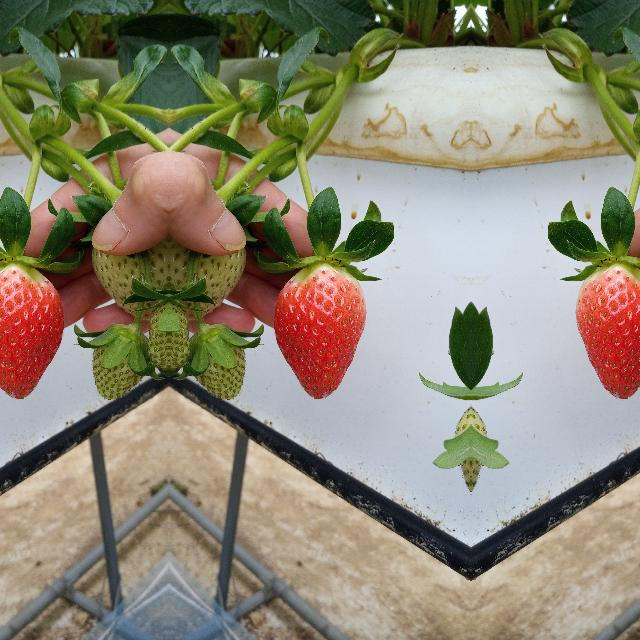Health_100: (272, 262, 366, 400), (575, 262, 640, 400), (0, 262, 63, 400)
Health_25: (168, 200, 246, 310), (90, 200, 168, 310), (194, 329, 250, 407), (86, 329, 142, 407)
